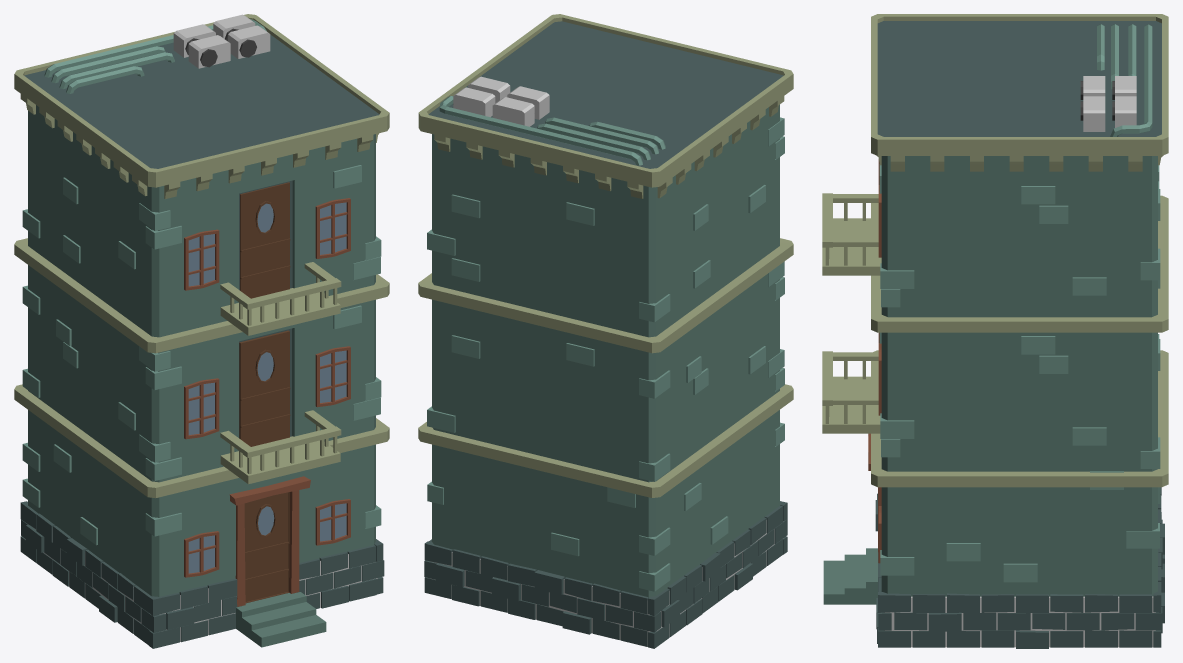
The model's file is medium-building-a.high.glb.
3 views of the same model, side by side, from view 1: azimuth 30°, elevation 25°; view 2: azimuth 150°, elevation 25°; view 3: azimuth 270°, elevation 25° (orthographic). The views are drawn at different scales.
Parts seen in each view (by area): view 1: 3Story_Balcony_Mat; view 2: 3Story_Balcony_Mat; view 3: 3Story_Balcony_Mat.
Boxes of the visible parts, bbox=[...] form: 3Story_Balcony_Mat: bbox=[14, 14, 389, 648]; 3Story_Balcony_Mat: bbox=[418, 14, 793, 648]; 3Story_Balcony_Mat: bbox=[822, 14, 1168, 648].
Size of the model in its own units: 2.16 by 4.21 by 2.51.
